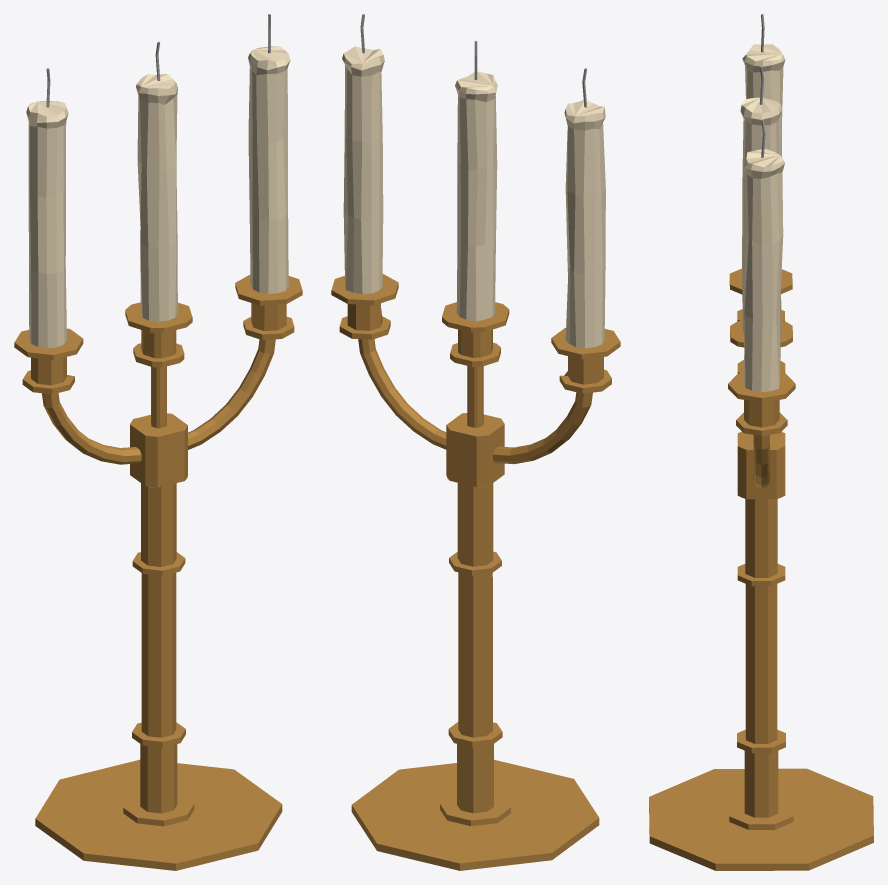
File: candle_02.fbx
3 views of the same model, side by side, from view 1: azimuth 30°, elevation 25°; view 2: azimuth 150°, elevation 25°; view 3: azimuth 270°, elevation 25° (orthographic). The views are drawn at different scales.
Visible parts, largest first — view 1: Candle_02; view 2: Candle_02; view 3: Candle_02.
Boxes of the visible parts, <box> form: Candle_02: <box>14,14,302,870</box>; Candle_02: <box>331,14,620,870</box>; Candle_02: <box>649,14,873,870</box>.
Bounding box in the file's own units: 17.32 × 46.15 × 12.44.
